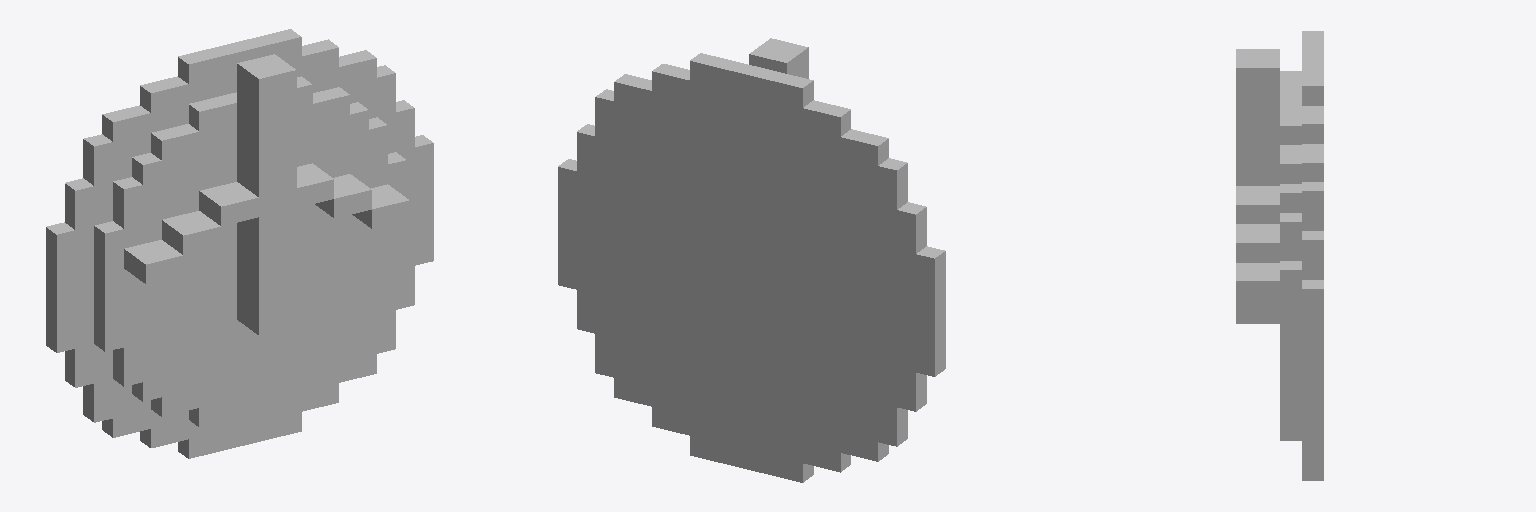
Rendered from MachineGun.obj.
The picture shows the model from 3 angles: view 1: azimuth 30°, elevation 25°; view 2: azimuth 150°, elevation 25°; view 3: azimuth 270°, elevation 25°; orthographic projection.
Parts seen in each view (by area): view 1: MachineGun; view 2: MachineGun; view 3: MachineGun.
Part boxes in pixels (left/top/right/bottom): MachineGun: left=46, top=29, right=433, bottom=458; MachineGun: left=558, top=38, right=945, bottom=482; MachineGun: left=1236, top=31, right=1323, bottom=480.
Size of the model in its own units: 20 by 20 by 4.